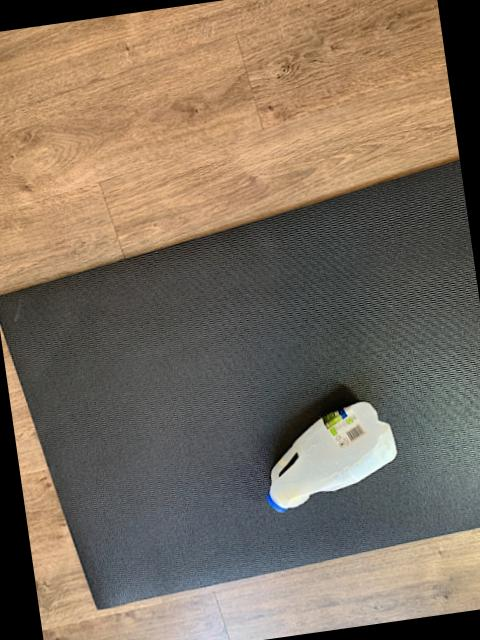plastic: (266, 403, 394, 512)
